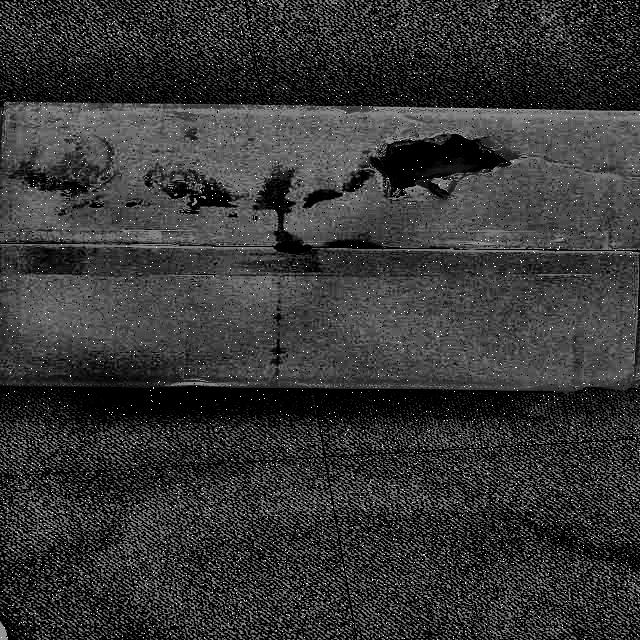box: (4, 93, 640, 417)
hole: (373, 134, 515, 196)
